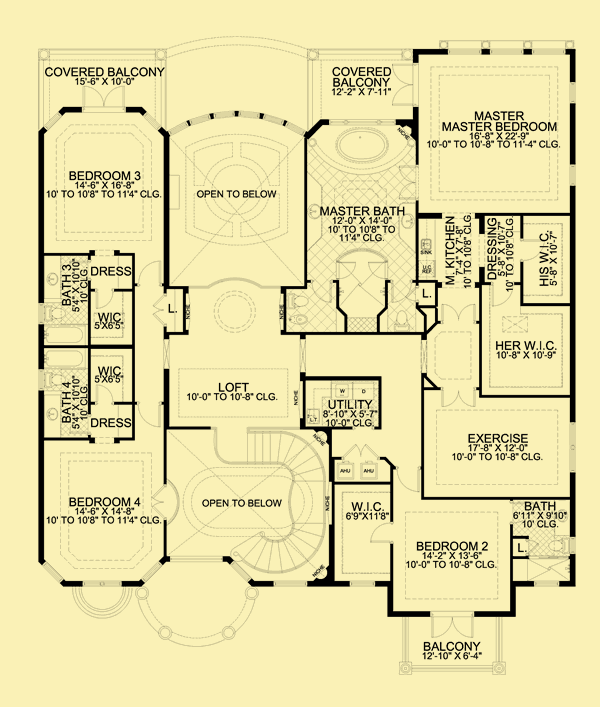bathroom has a bathtub with small and large sink: (37, 343, 136, 440), (36, 251, 133, 346)
bathroom has a small and large sink with shower space: (513, 498, 578, 585)
laundry room has a washer and dryer: (302, 375, 381, 430)
master bathroom has a bathtub with dual sink and large sink with shower space: (282, 117, 424, 331)
there are stairs in the open area: (162, 425, 334, 590)
